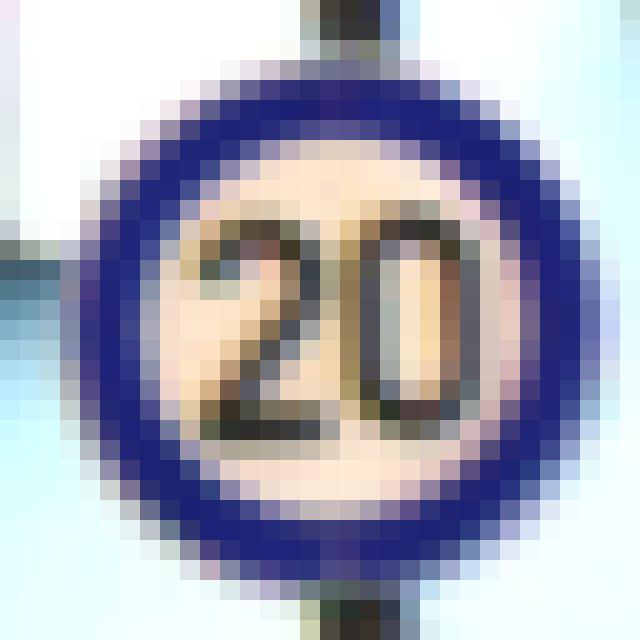SPEED LIMIT 20: (67, 81, 605, 584)
